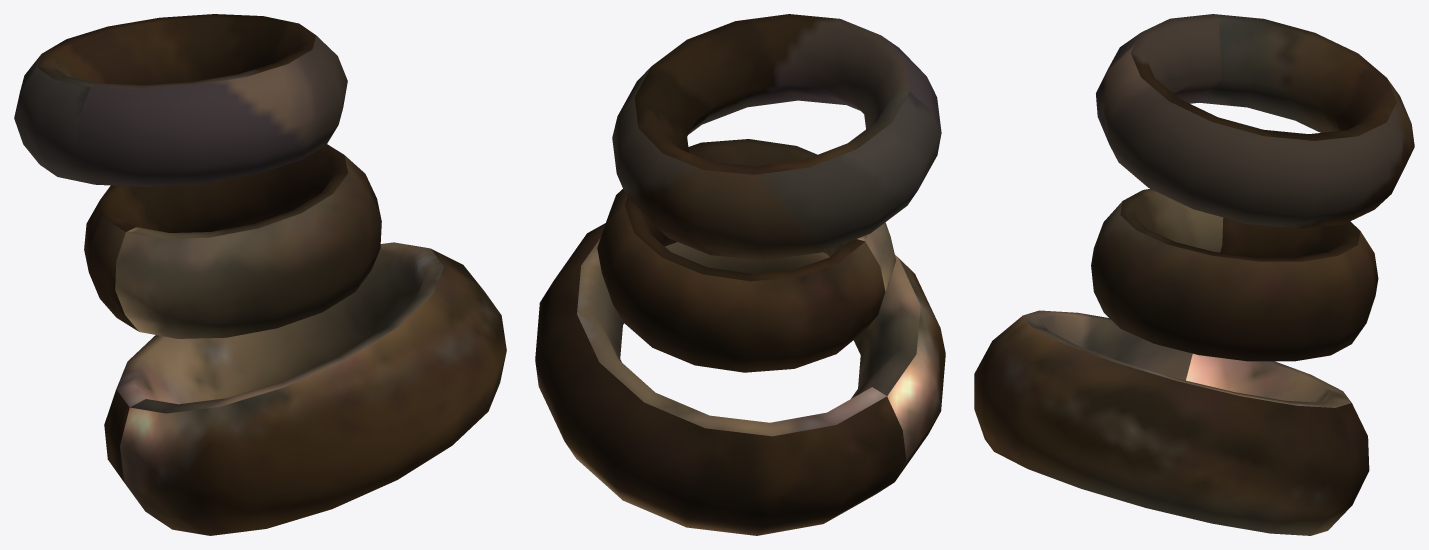
The model's file is sm_dwarf_accessories_04.gltf.
3 renders of one model, left to right at view 1: azimuth 30°, elevation 25°; view 2: azimuth 150°, elevation 25°; view 3: azimuth 270°, elevation 25°, orthographic. The views are drawn at different scales.
Visible parts, largest first — view 1: sm_dwarf_accessories_04; view 2: sm_dwarf_accessories_04; view 3: sm_dwarf_accessories_04.
Part boxes in pixels (bbox=[...]): sm_dwarf_accessories_04: bbox=[14, 14, 506, 535]; sm_dwarf_accessories_04: bbox=[535, 14, 945, 535]; sm_dwarf_accessories_04: bbox=[974, 14, 1414, 535].
Bounding box in the file's own units: 3.84 × 4.24 × 3.8.
1 material, 1 textured.
